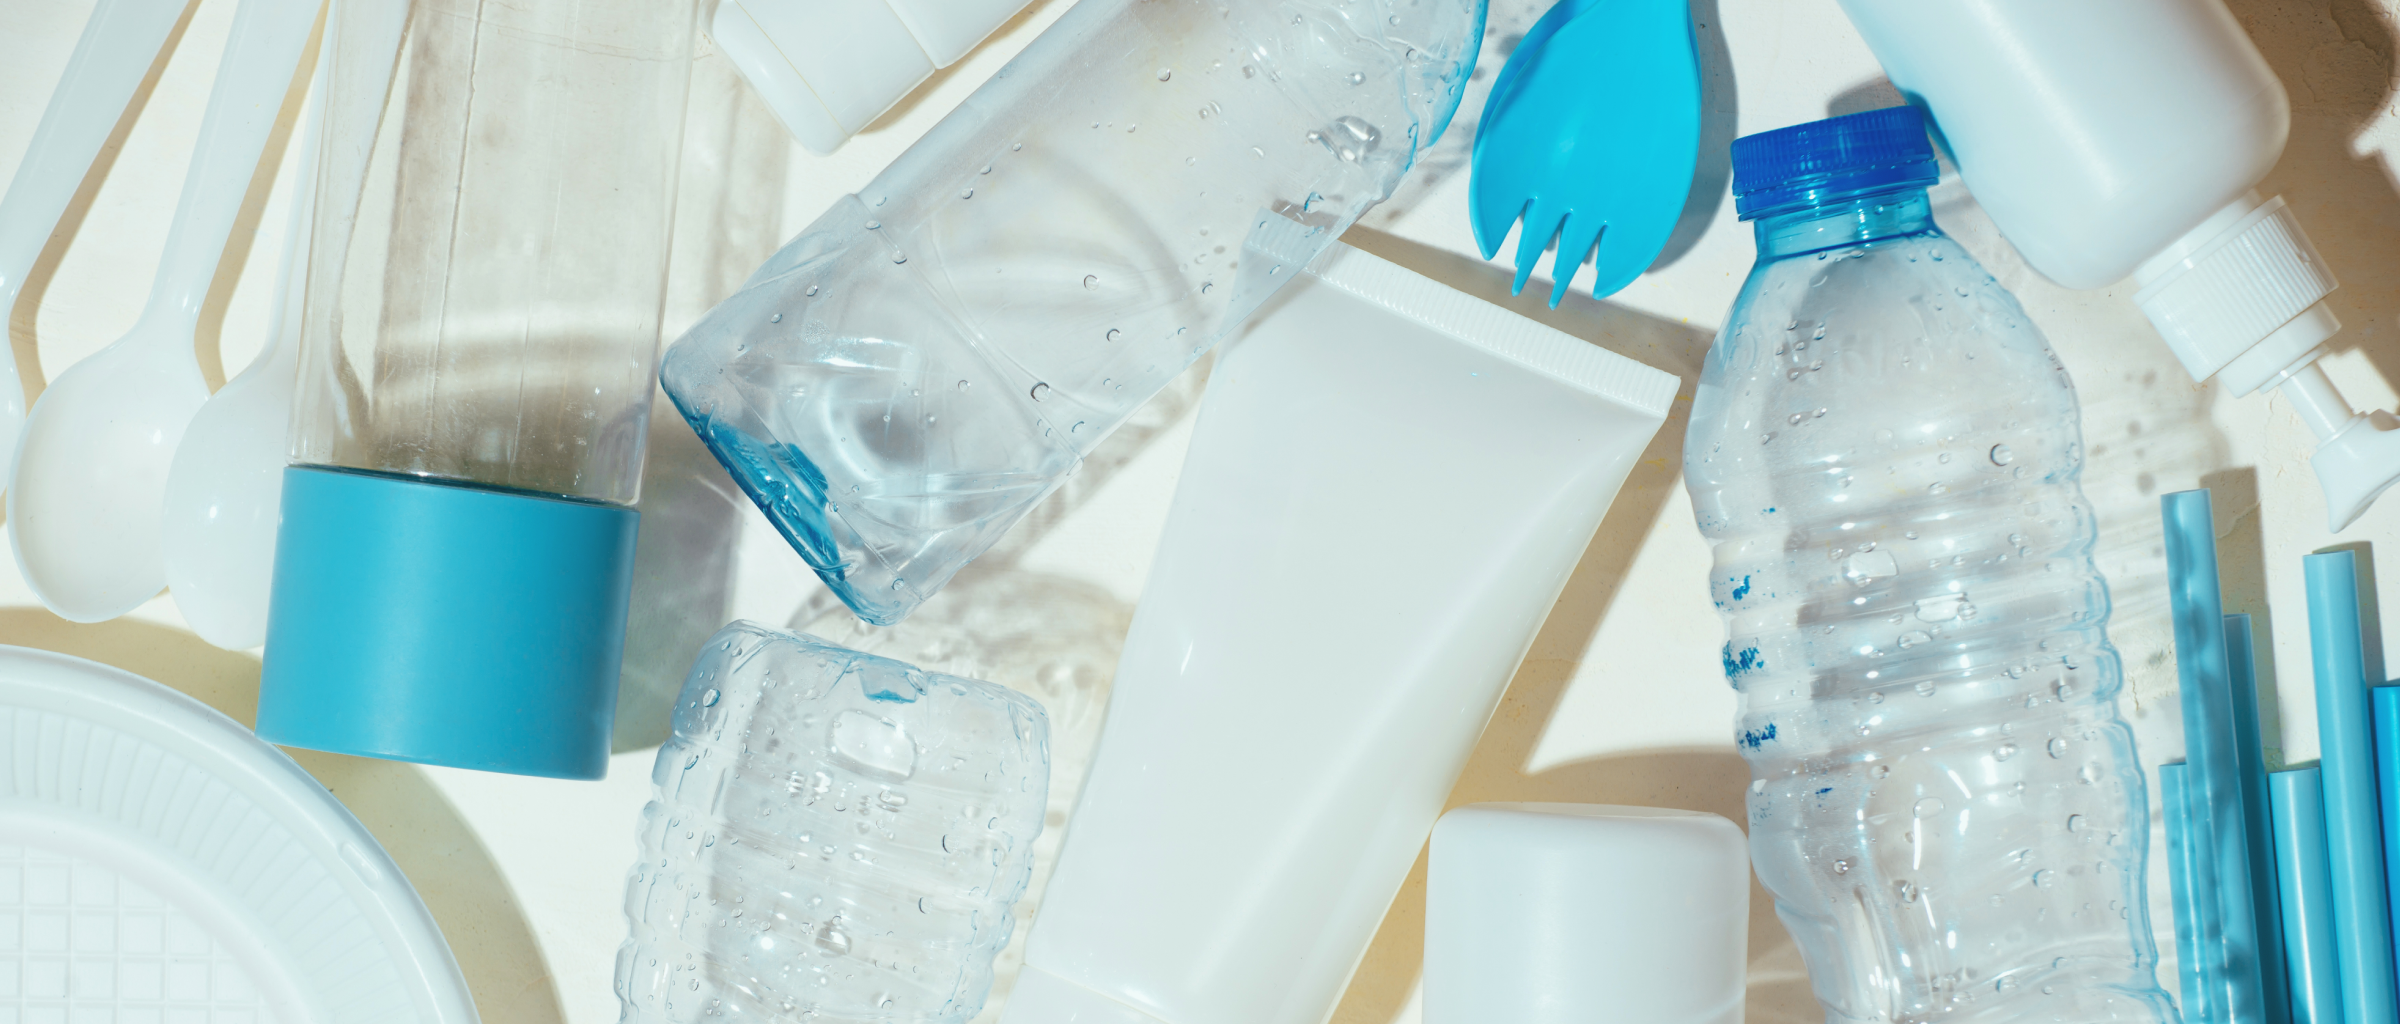plastic water bottle: (1624, 84, 2212, 1024), (677, 2, 1488, 654), (574, 611, 1048, 1024)
